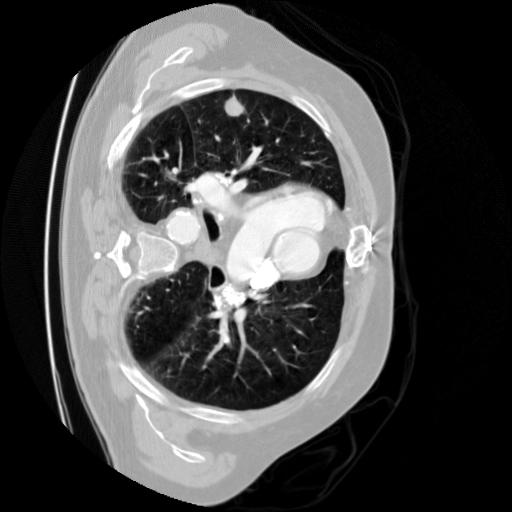nodule: (221, 96, 248, 123)
